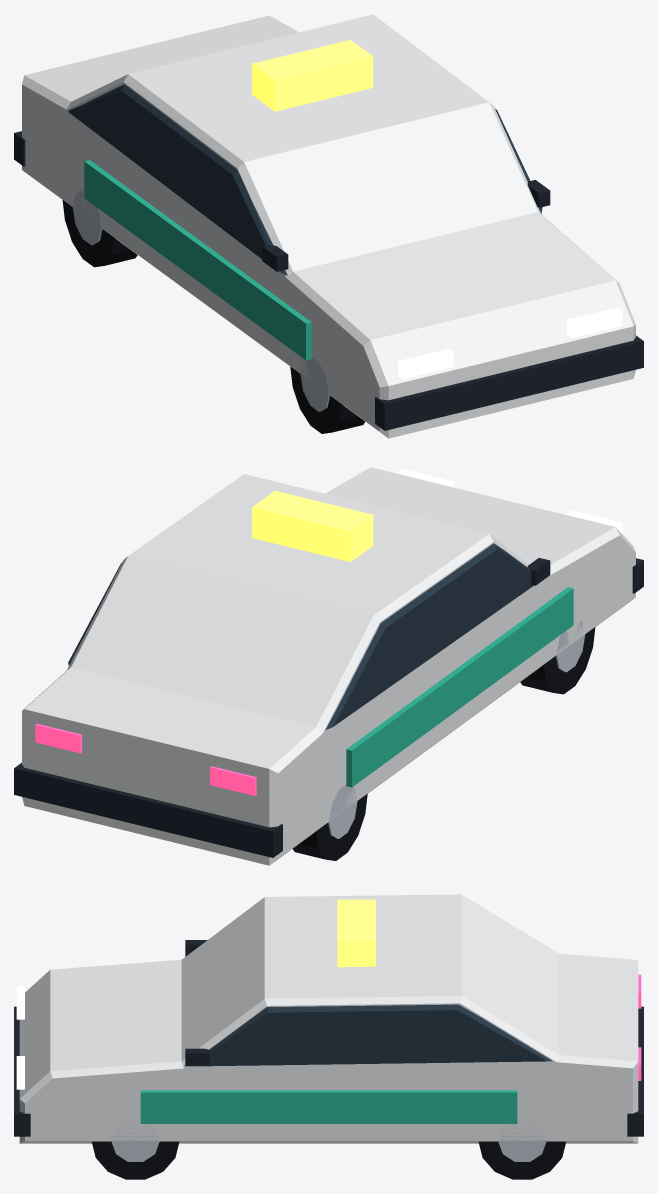
File: car_taxi.glb
3 views of the same model, one above another, from view 1: azimuth 30°, elevation 25°; view 2: azimuth 150°, elevation 25°; view 3: azimuth 270°, elevation 25° (orthographic). The views are drawn at different scales.
Visible parts, largest first — view 1: body; view 2: body; view 3: body.
Boxes of the visible parts, <box> form: body: <box>14,14,643,438</box>; body: <box>14,467,643,865</box>; body: <box>14,894,643,1179</box>.
Bounding box in the file's own units: 1.94 × 1.65 × 4.56.
